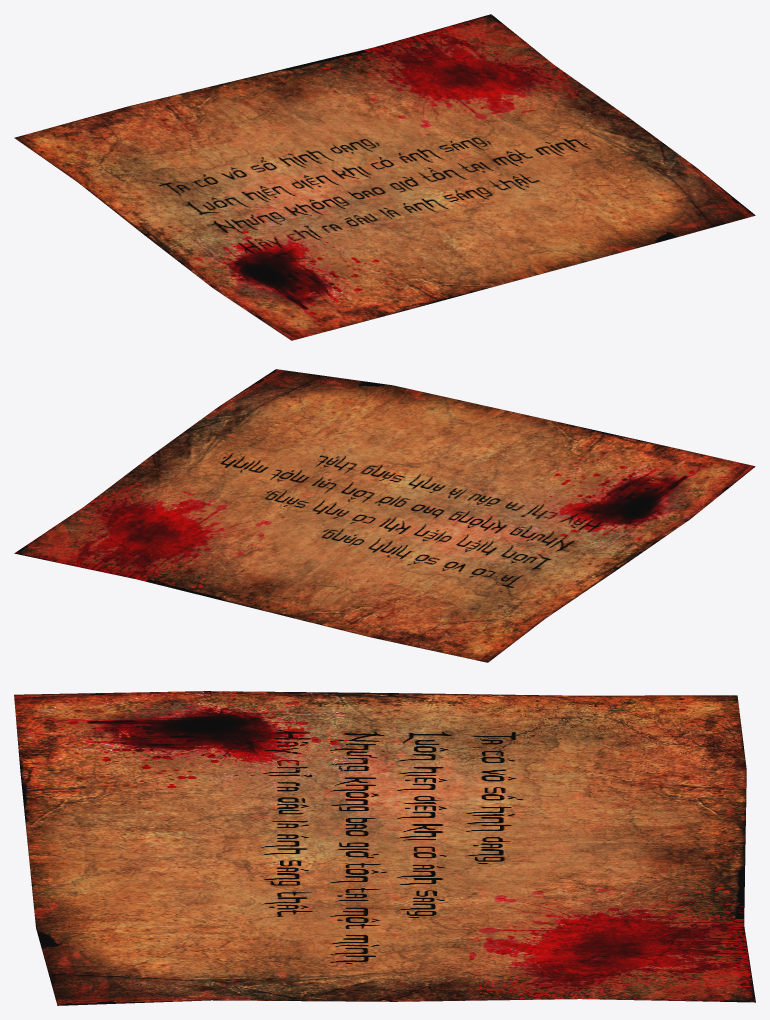
The model's file is Gamemini.fbx.
3 renders of one model, top to bottom at view 1: azimuth 30°, elevation 25°; view 2: azimuth 150°, elevation 25°; view 3: azimuth 270°, elevation 25°, orthographic. The views are drawn at different scales.
Visible parts, largest first — view 1: Plane; view 2: Plane; view 3: Plane.
Part boxes in pixels (x1,y1,x2,y2): Plane: (14, 14, 755, 340); Plane: (14, 369, 755, 662); Plane: (14, 691, 755, 1005).
Bounding box in the file's own units: 198 × 1.82 × 199.
